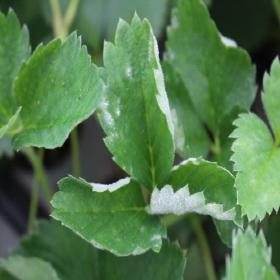Powdery Mildew Leaf: (94, 9, 176, 192), (161, 0, 257, 136), (49, 174, 169, 257), (149, 155, 245, 231)
